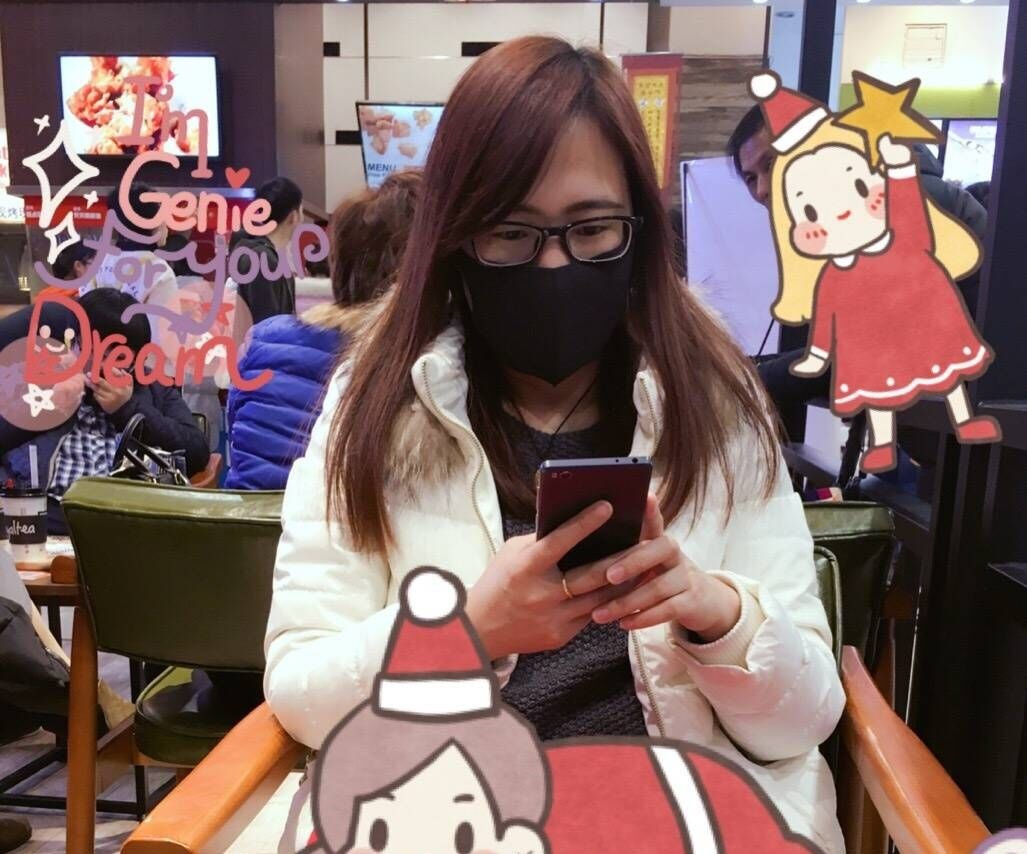face_mask: (464, 139, 633, 377)
